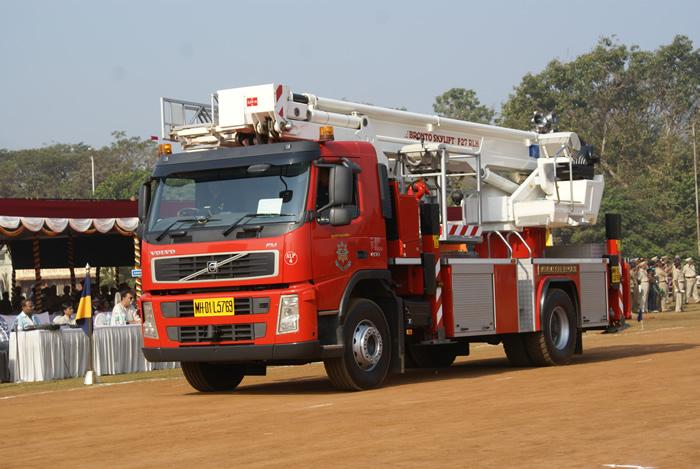Fire-engine: (138, 88, 644, 374)
